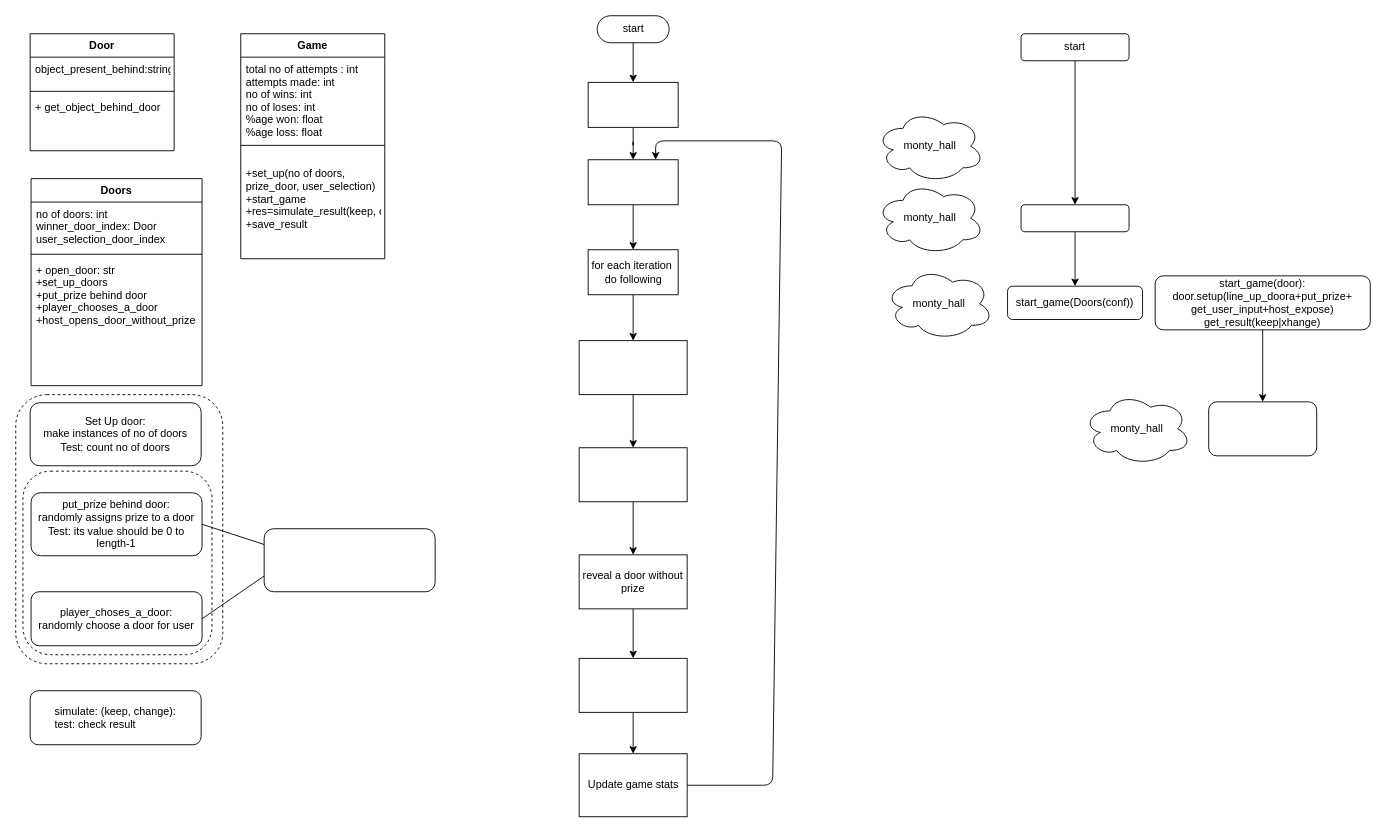
Image size: 1386x833. Some labels were removed from this diagram. Each missing label, with the box of its shape:
get random no between range test: it should be within range: (263, 528, 435, 592)
loop no of times asked by user. No of times * 2: (587, 159, 678, 205)
monty_hall. update_stats: (1208, 401, 1317, 456)
out of 2 doors left stay (1) or switch(2): (578, 657, 687, 712)
put prize behind a door (randomly & automatic): (578, 340, 687, 395)
Specify the no of times you want to test each option: (587, 81, 678, 127)
start loop for inp*2: (1020, 204, 1129, 232)
user selects a door (randomly & automatic): (578, 447, 687, 502)
